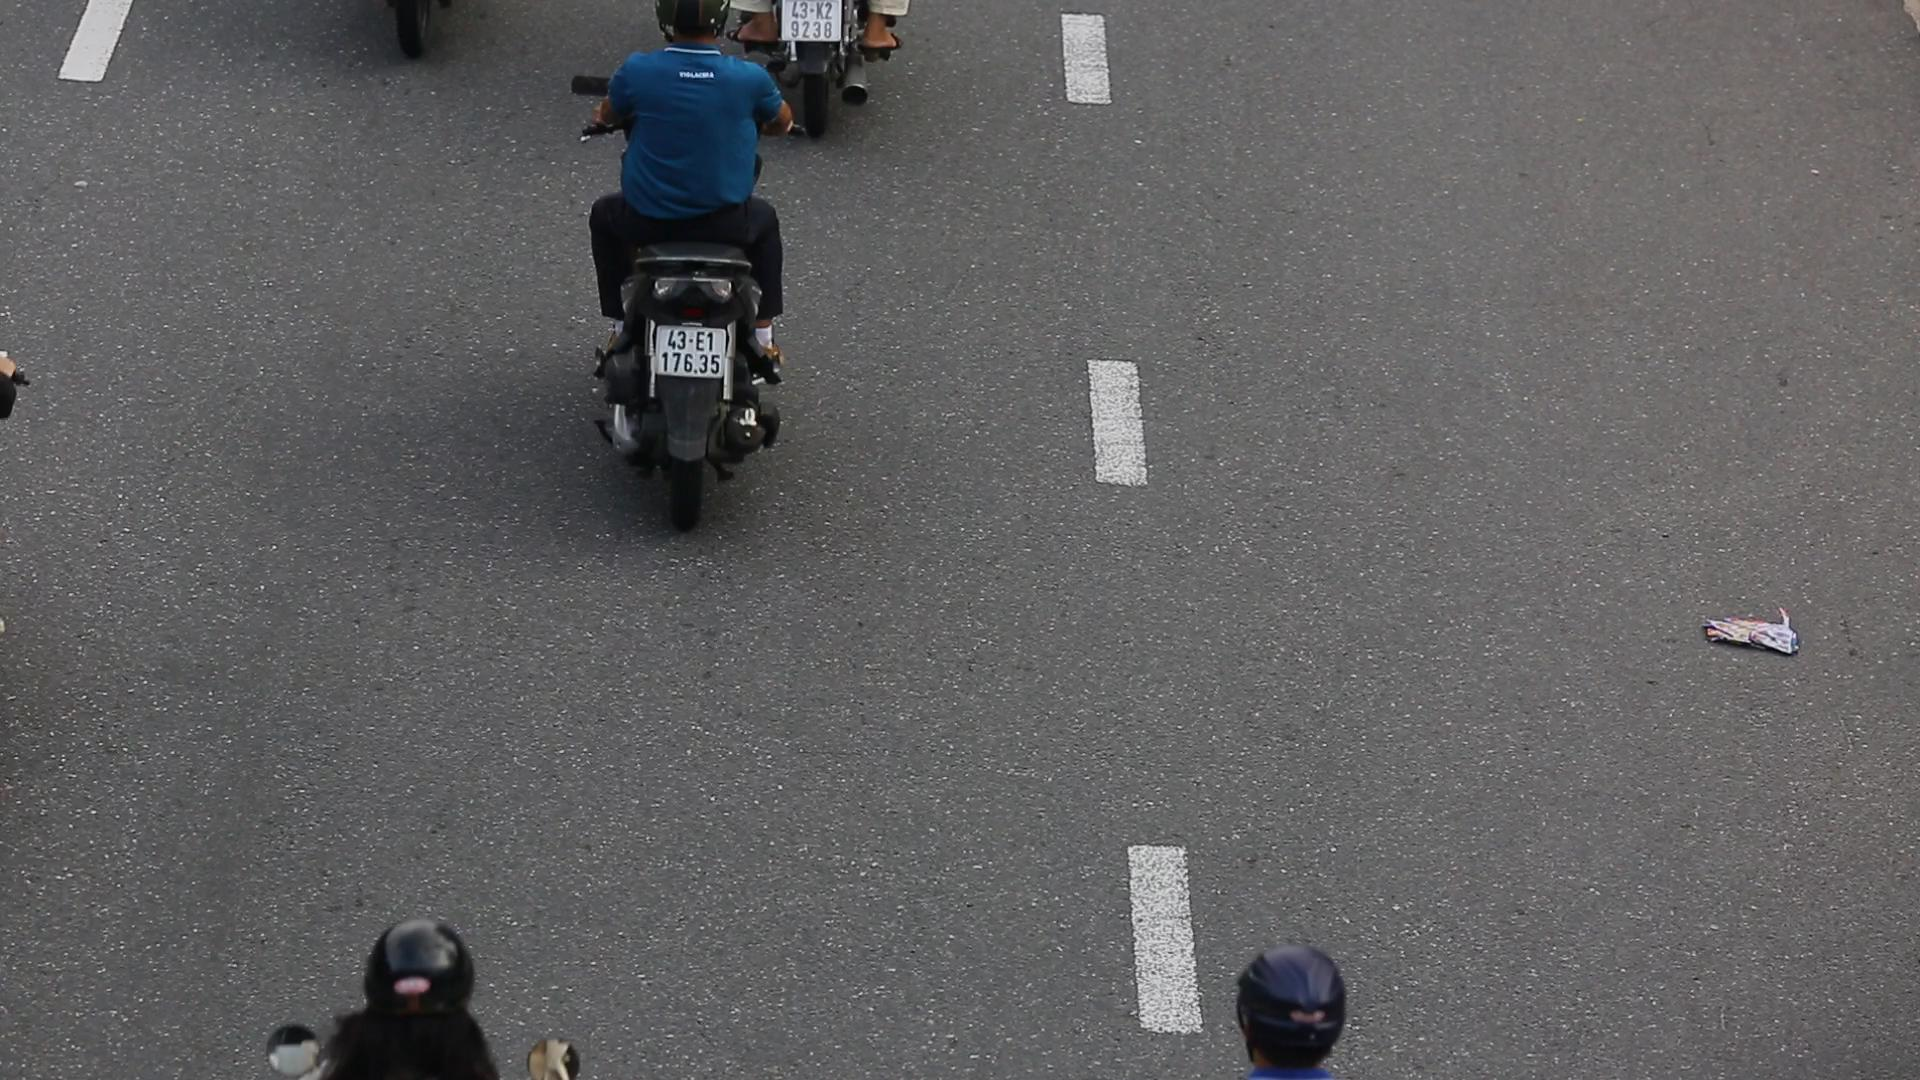motobike: (568, 0, 845, 564)
